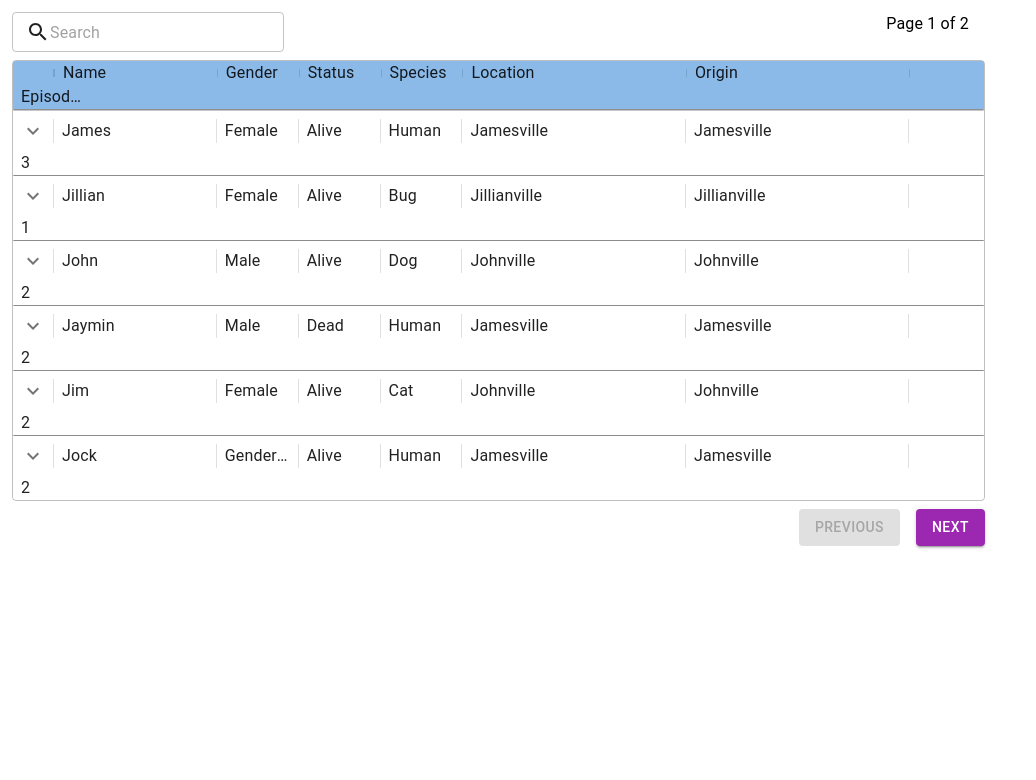
Scenario: CharacterTable › should be able to open character overview and close it
Expected: the number of elements with test id "table-row" is 6, [13, 111, 984, 175]; [13, 176, 984, 240]; [13, 241, 984, 305]; [13, 306, 984, 370]; [13, 371, 984, 435]; [13, 436, 984, 500]
Note: Check that the second row is there
What coordinates should you click on to do the following:
click the button with test id "open-overview" in the row of "Bug"
I would click on:
 (33, 196)
Its box is [13, 176, 53, 216].
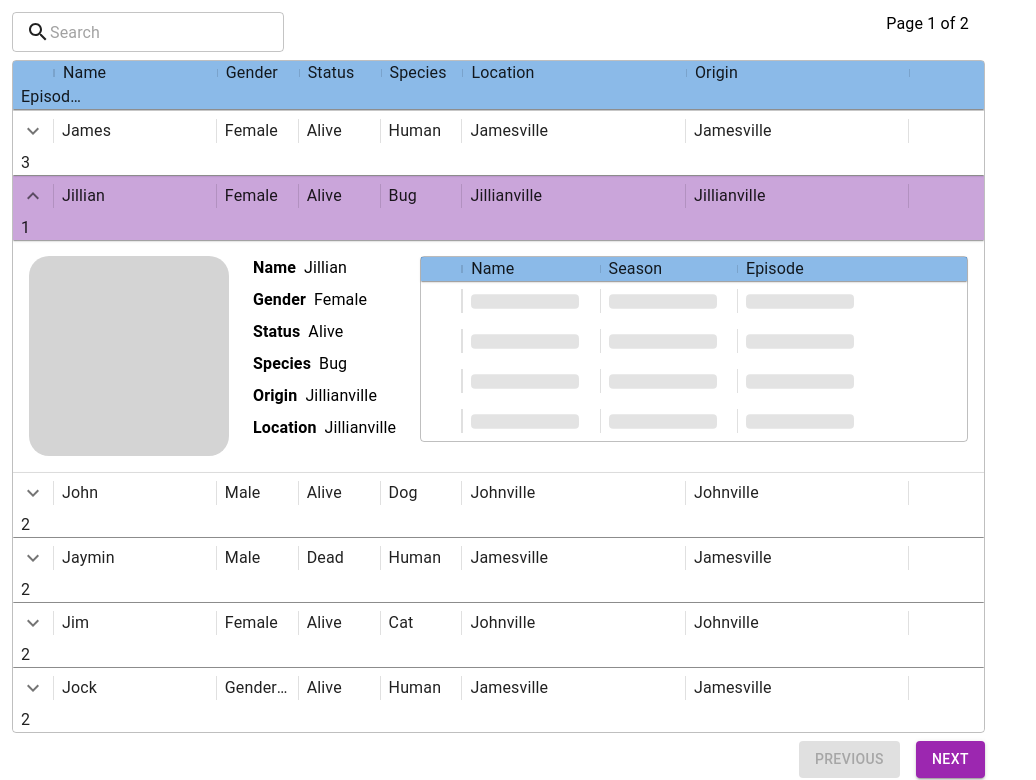
Expected: the element with test id "character-overview" is shown, [13, 240, 984, 472]
Expected: the text with test id "name-value" reads "Jillian", [304, 258, 347, 277]
Expected: the text with test id "gender-value" reads "Female", [314, 290, 367, 309]
Note: Close the overview
What coordinates should you click on to do the following:
click the 2nd button with test id "open-overview"
I would click on:
 (33, 196)
Its box is [13, 176, 53, 216].
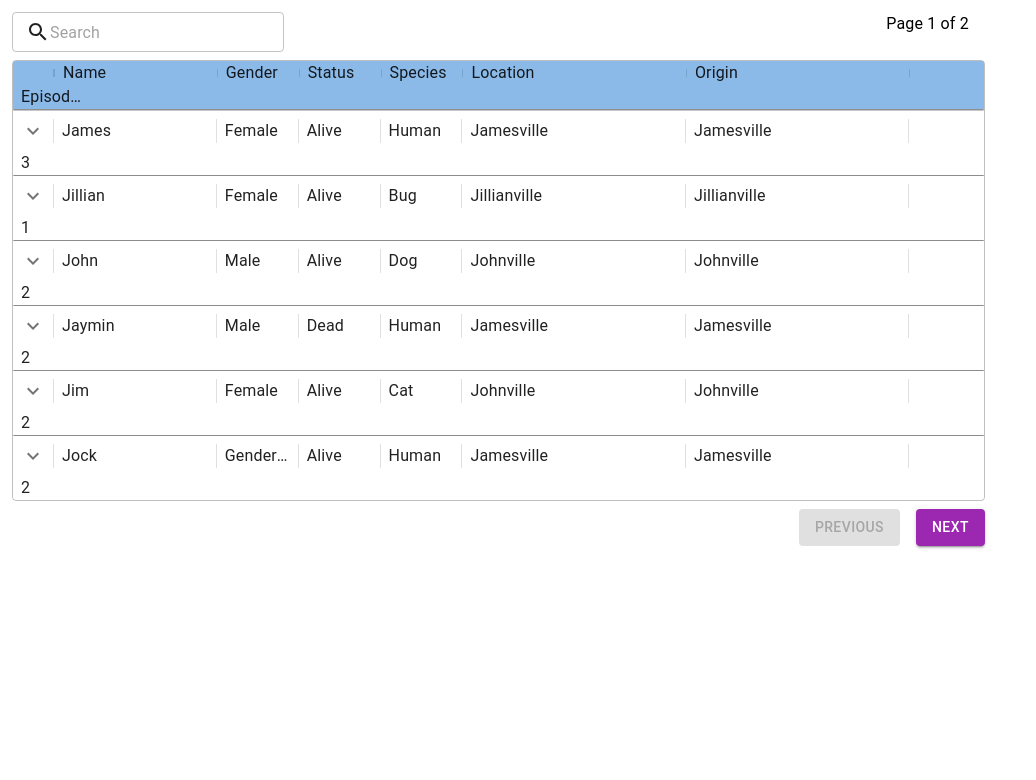
Expected: the element with test id "character-overview" is gone
